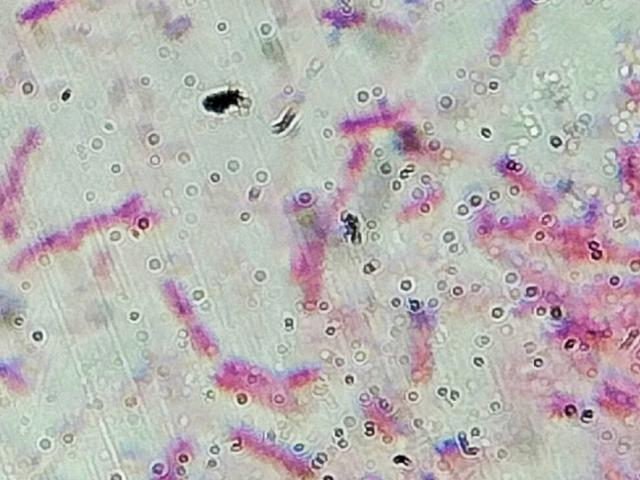E. coli: (492, 216, 622, 254), (288, 213, 331, 305), (326, 9, 423, 45), (236, 432, 315, 475), (488, 0, 543, 61), (162, 279, 207, 352), (0, 130, 40, 208), (403, 307, 439, 375), (2, 229, 63, 269), (502, 153, 549, 200), (591, 386, 632, 433), (362, 393, 398, 446), (542, 289, 600, 321), (401, 182, 439, 226), (65, 213, 113, 245), (155, 440, 193, 480), (611, 147, 639, 198), (219, 385, 290, 405), (226, 365, 314, 381), (335, 140, 371, 177), (342, 107, 405, 128), (108, 197, 152, 227), (19, 0, 64, 24)
